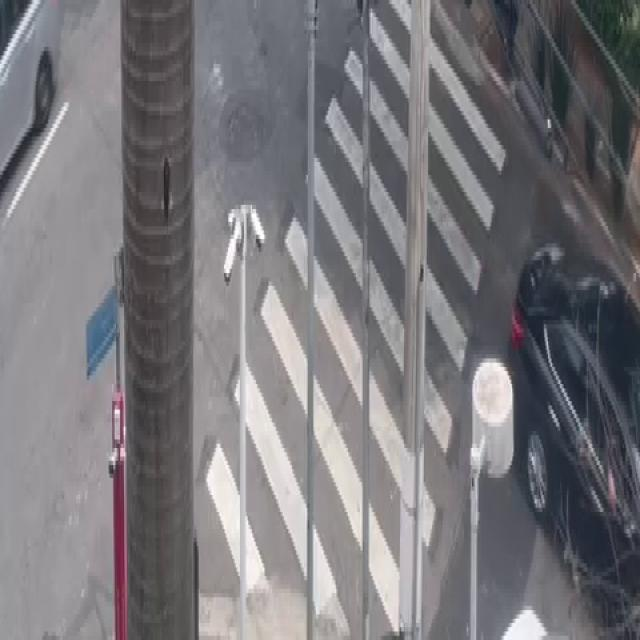car: (515, 242, 633, 602), (1, 0, 66, 179)
